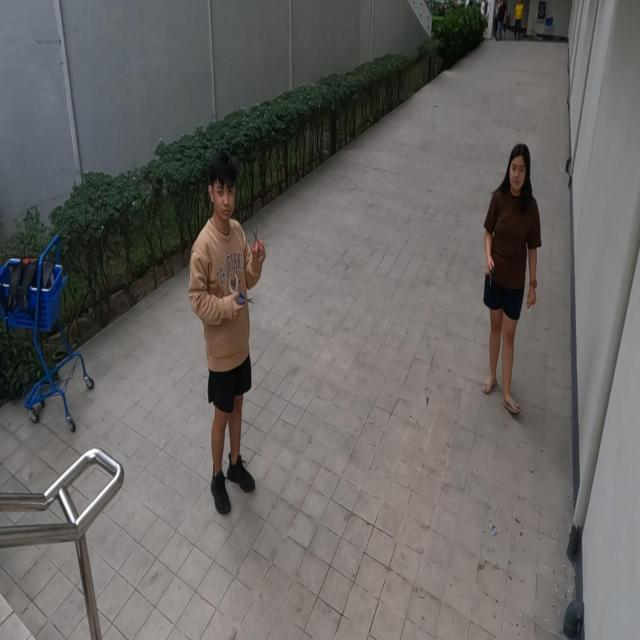scissor: (251, 225, 264, 254), (235, 291, 255, 306), (488, 261, 494, 287)
